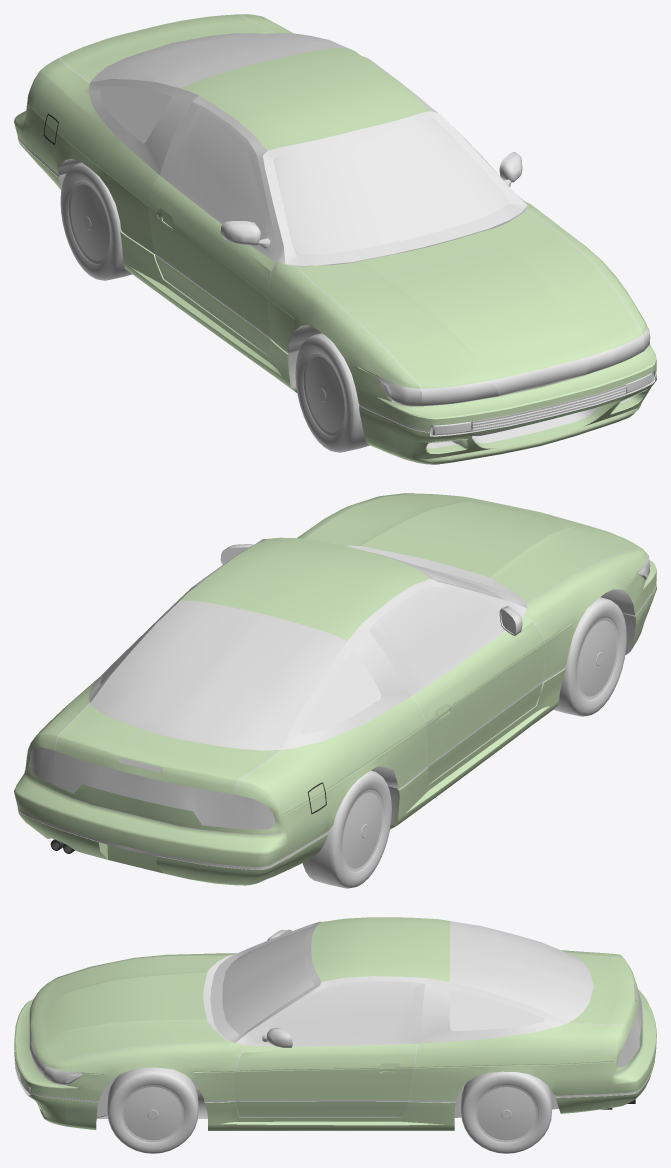
Rendered from Nissan Sileighty.fbx.
3 renders of one model, top to bottom at view 1: azimuth 30°, elevation 25°; view 2: azimuth 150°, elevation 25°; view 3: azimuth 270°, elevation 25°, orthographic. The views are drawn at different scales.
Parts seen in each view (by area): view 1: Plane.001, Circle.012, Circle.011; view 2: Plane.001, Plane.004, Circle.011, Circle.012; view 3: Plane.001, Circle.009, Circle.010, Plane.004.
Boxes of the visible parts, x1,y1,x2,y2 form: Plane.001: (14,14,656,464); Circle.012: (295,333,369,452); Circle.011: (60,162,132,280); Plane.001: (14,493,656,885); Plane.004: (29,747,275,829); Circle.011: (302,770,391,888); Circle.012: (553,597,626,716); Plane.001: (14,917,656,1130); Circle.009: (107,1067,198,1153); Circle.010: (460,1071,552,1153); Plane.004: (617,987,642,1067).
Bounding box in the file's own units: 243 × 170 × 608.
